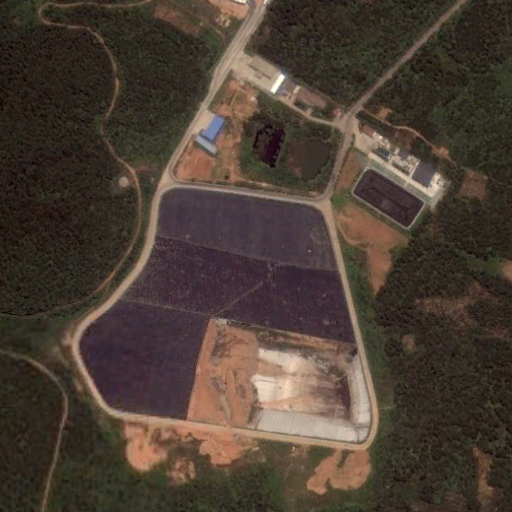lf: (77, 186, 375, 448)
